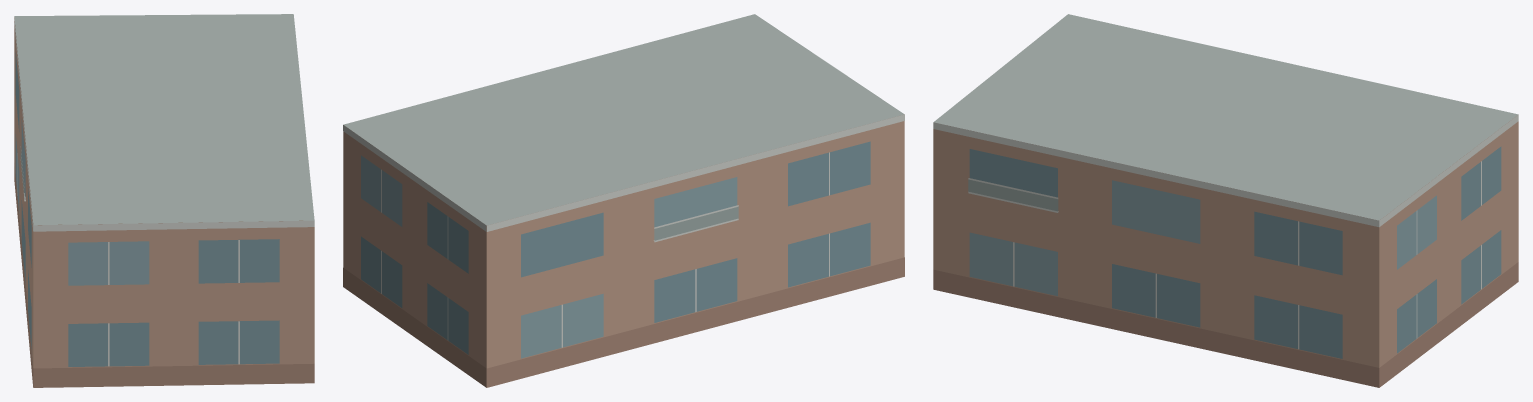
File: survey-upis-32846186.glb
3 views of the same model, side by side, from view 1: azimuth 30°, elevation 25°; view 2: azimuth 150°, elevation 25°; view 3: azimuth 270°, elevation 25° (orthographic). The views are drawn at different scales.
Parts seen in each view (by area): view 1: survey-upis-32846186.tmp; view 2: survey-upis-32846186.tmp; view 3: survey-upis-32846186.tmp.
Part boxes in pixels (x1,y1,x2,y2): survey-upis-32846186.tmp: (14,14,314,387); survey-upis-32846186.tmp: (343,14,904,387); survey-upis-32846186.tmp: (933,14,1518,387).
Bounding box in the file's own units: 16.16 × 6.1 × 19.35.
